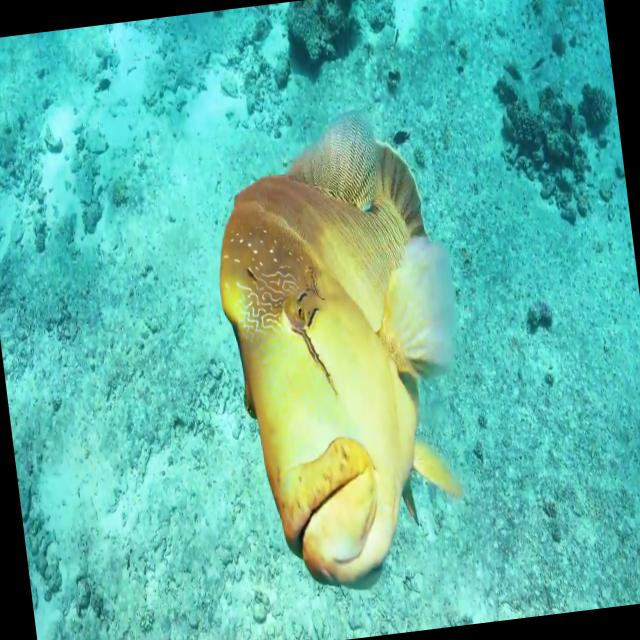fish: (194, 89, 496, 595)
